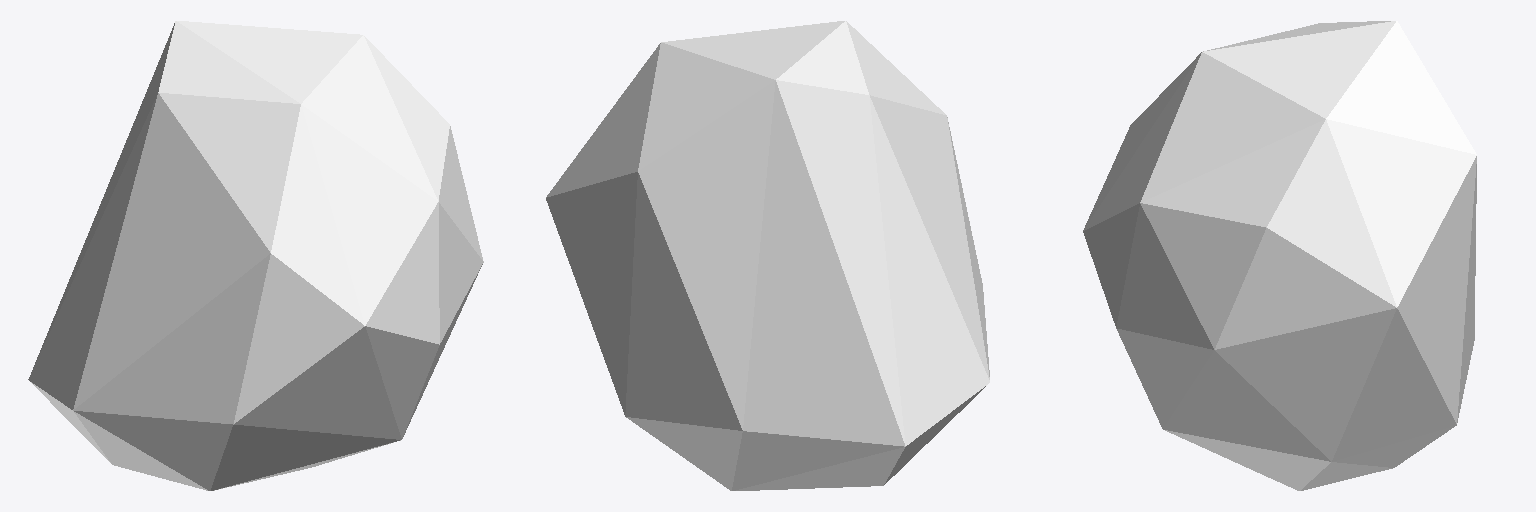
URDF robot description (hrp2_rarm_rom):
<robot name="hrp2_rarm_rom">
  <link name="base_link"/>
  <joint name="WAIST" type="fixed">
    <parent link="base_link"/>
    <child link="BODY"/>
    <origin rpy="0 0 0" xyz="0 0 0"/>
  </joint>
  <link name="BODY">
  </link>
  <!-- Chest -->
  <joint name="CHEST_JOINT0" type="revolute">
    <parent link="BODY"/>
    <child link="CHEST_LINK0"/>
    <origin rpy="0 0 0" xyz="0.032 0 0.3507"/>
    <axis xyz="0 0 1"/>
    <limit effort="151.1" lower="-0.785398" upper="0.785398" velocity="4.40217"/>
  </joint>
  <link name="CHEST_LINK0">
  </link>
  <joint name="CHEST_JOINT1" type="revolute">
    <parent link="CHEST_LINK0"/>
    <child link="torso"/>
    <origin rpy="0 0 0" xyz="0 0 0"/>
    <axis xyz="0 1 0"/>
    <limit effort="278.9" lower="-0.0872665" upper="1.0472" velocity="2.3963"/>
  </joint>
  <link name="torso">  
    <visual>
      <origin xyz="-0.032 -0 -0.3507" rpy="0 0 0.003" />
      <geometry>
        <mesh filename="package://hpp-rbprm-corba/meshes/hrp2_rarm_rom.stl"/>
      </geometry>
      <material name="white">
        <color rgba="1 1 1 1"/>
      </material>
    </visual>
    <collision>
      <origin xyz="-0.032 -0 -0.3507" rpy="0 0 0.003" />
      <geometry>
        <mesh filename="package://hpp-rbprm-corba/meshes/hrp2_rarm_rom.stl"/>
      </geometry>
    </collision>
  </link>
</robot>

--- What the picture shows (computed from the rendered views, not written in the file) ---
The picture shows the robot from 3 angles, left to right: view 1: azimuth 30°, elevation 25°; view 2: azimuth 150°, elevation 25°; view 3: azimuth 270°, elevation 25°; orthographic projection.
Model hrp2_rarm_rom with 4 links and 3 joints (2 revolute, 1 fixed), rooted at base_link, posed all joints at 0.
Visible links, largest first — view 1: torso; view 2: torso; view 3: torso.
Boxes of the visible links, x1,y1,x2,y2 form: torso: (28,21,483,490); torso: (546,21,989,490); torso: (1083,21,1476,490).
Size in the robot's own frame: 1.04 by 0.9111 by 1.09 metres.
1 mesh visuals loaded from 1 distinct referenced files (1 binary STL).